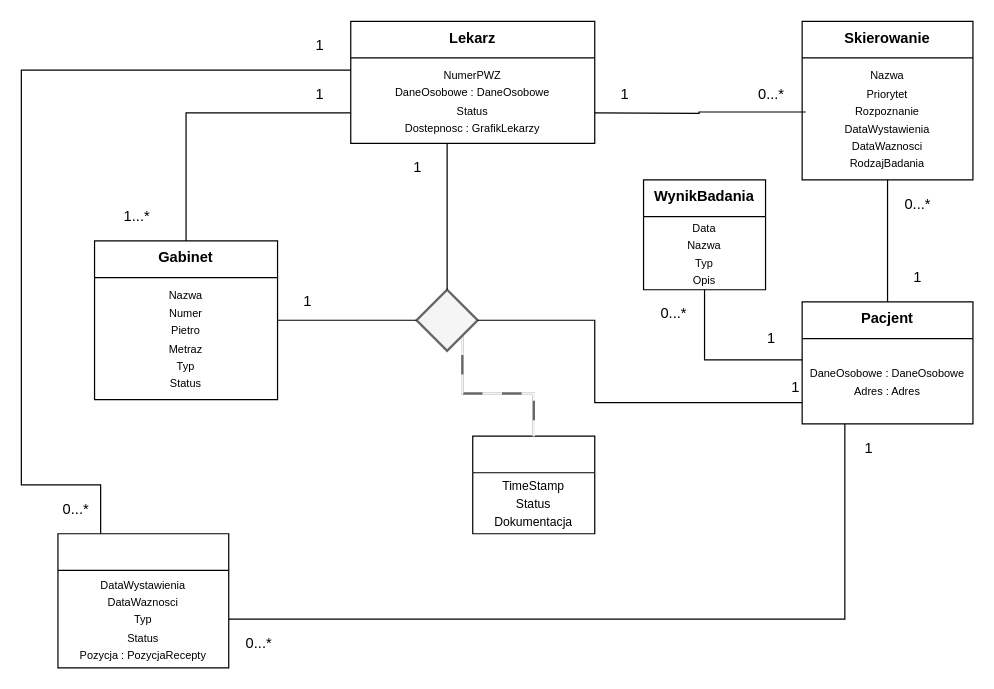
Image size: 994x689. Some labels were removed from this diagram. The shapes that lost their labels are listed below. From the top down, each one's box as (x1, y1, x2, y2) in pixels, then its label:
(472, 435, 595, 534): Wizyta
(57, 533, 229, 668): Recepta
